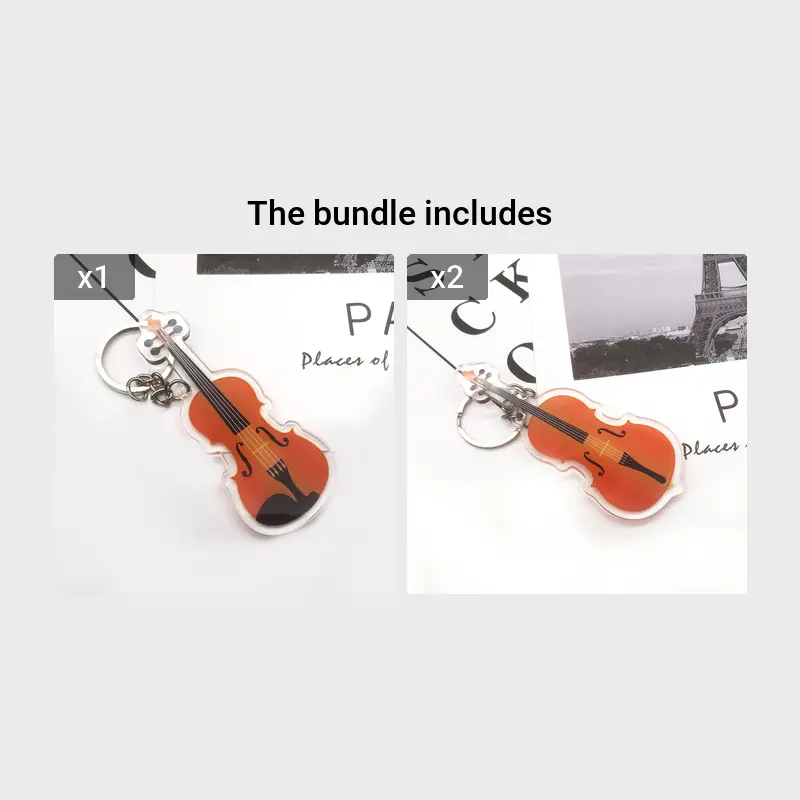Violin: (390, 278, 730, 555), (97, 290, 410, 561)
